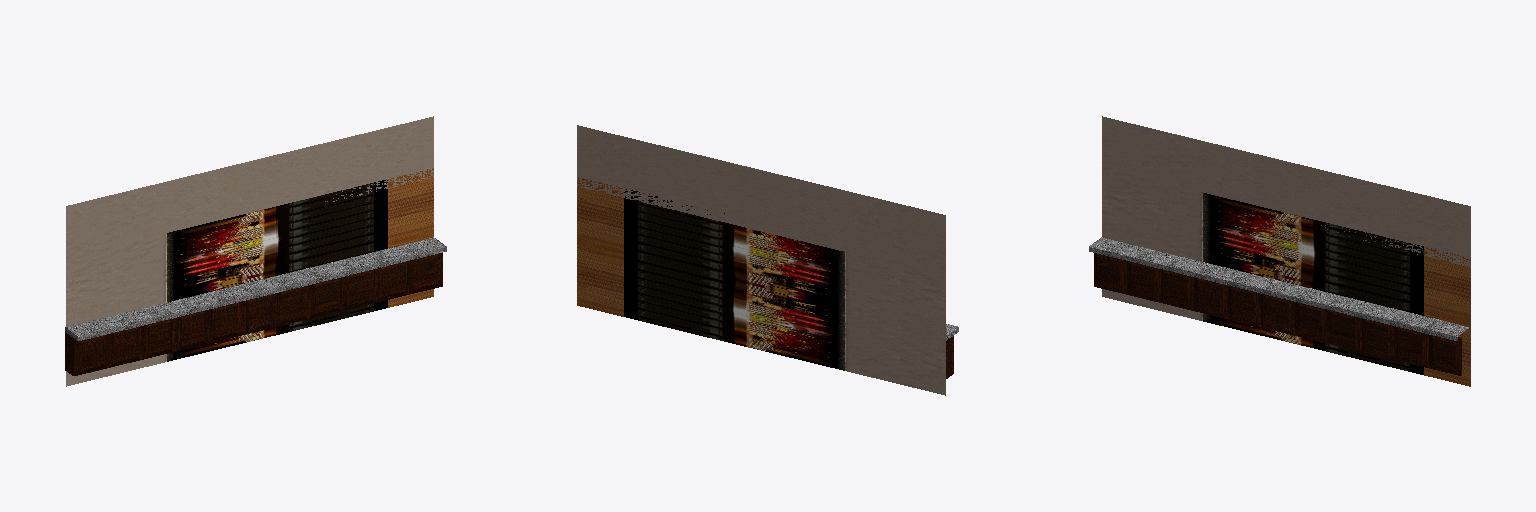
3 views of the same model, side by side, from view 1: azimuth 30°, elevation 25°; view 2: azimuth 150°, elevation 25°; view 3: azimuth 330°, elevation 25° (orthographic).
Parts seen in each view (by area): view 1: Plane05; view 2: Plane05; view 3: Plane05.
Part boxes in pixels (left/top/right/bottom): Plane05: left=65, top=116, right=446, bottom=386; Plane05: left=577, top=125, right=958, bottom=395; Plane05: left=1089, top=116, right=1470, bottom=386.
Bounding box in the file's own units: 1000 × 468 × 64.23.
Materials: 4 (4 with a texture image).